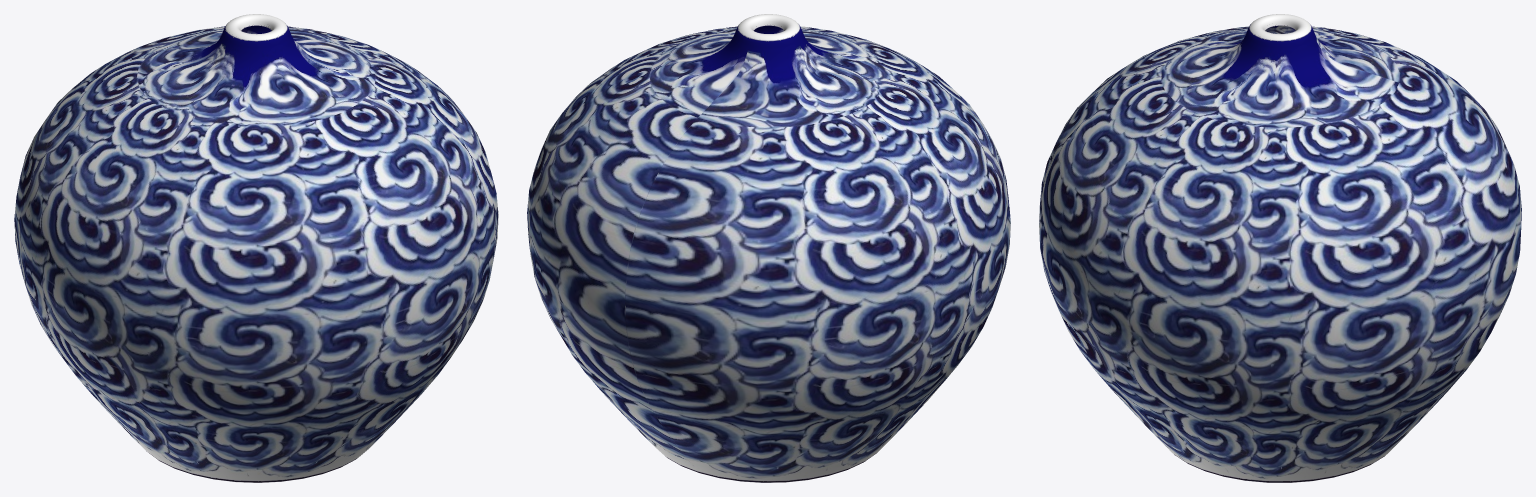
The model's file is Pot4.fbx.
The picture shows the model from 3 angles, left to right: view 1: azimuth 30°, elevation 25°; view 2: azimuth 150°, elevation 25°; view 3: azimuth 270°, elevation 25°; orthographic projection.
Visible parts, largest first — view 1: Vase.003; view 2: Vase.003; view 3: Vase.003.
Part boxes in pixels (box(x1,y1,x2,y2)): Vase.003: box(14, 14, 498, 482); Vase.003: box(527, 14, 1010, 482); Vase.003: box(1039, 14, 1521, 482).
Size of the model in its own units: 22.24 by 20.98 by 22.24.
Materials: 1 (1 with a texture image).
